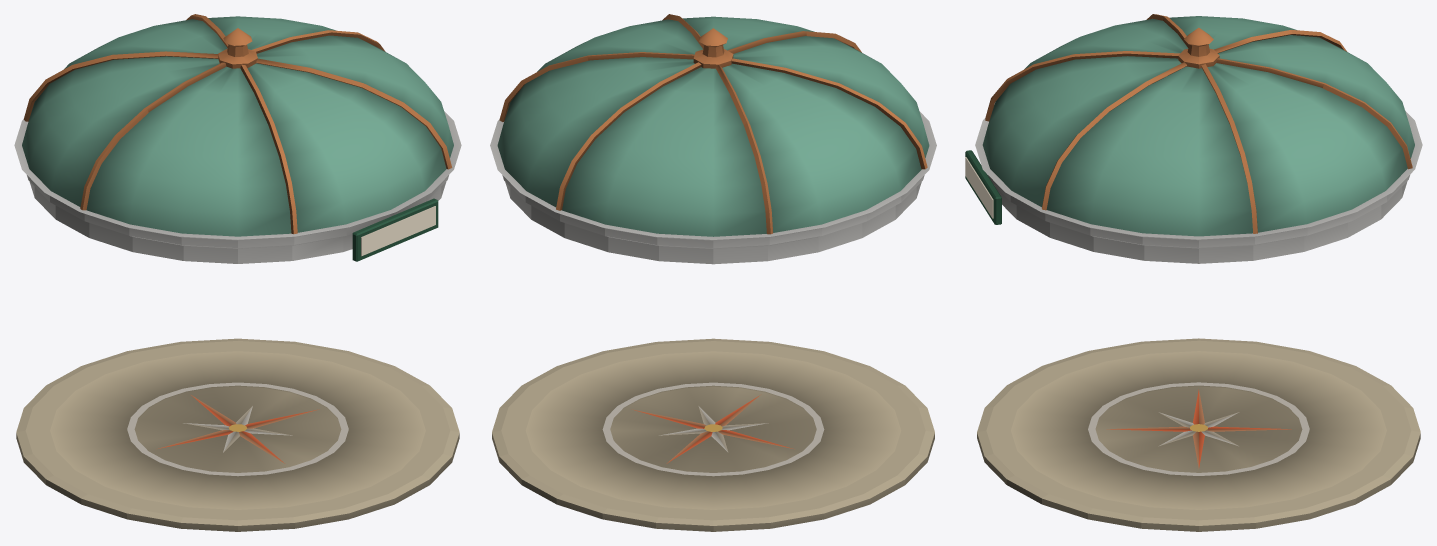
Rendered from pav_sunset.glb.
3 views of the same model, side by side, from view 1: azimuth 30°, elevation 25°; view 2: azimuth 150°, elevation 25°; view 3: azimuth 270°, elevation 25° (orthographic).
Visible parts, largest first — view 1: static_sunset; view 2: static_sunset; view 3: static_sunset.
Boxes of the visible parts, bbox=[...] form: static_sunset: bbox=[14, 14, 461, 531]; static_sunset: bbox=[490, 14, 936, 531]; static_sunset: bbox=[965, 14, 1422, 531].
Size of the model in its own units: 4.76 by 4.82 by 4.86.
